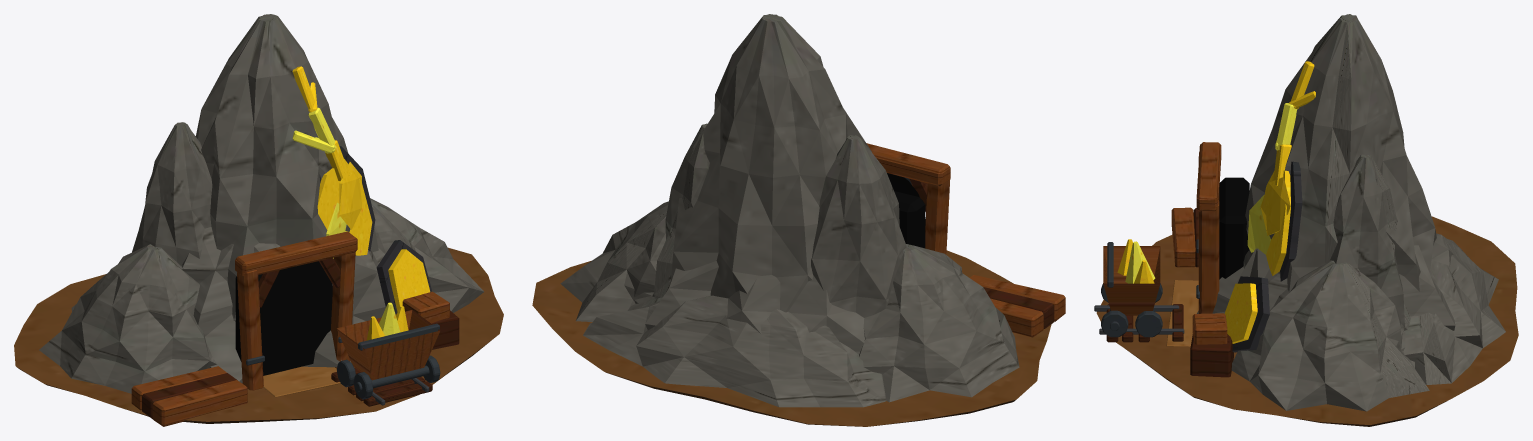
The model's file is hegemony-gold-mine-balanced-42776e6a0a1196c.glb.
3 renders of one model, left to right at view 1: azimuth 30°, elevation 25°; view 2: azimuth 150°, elevation 25°; view 3: azimuth 270°, elevation 25°, orthographic. The views are drawn at different scales.
Parts seen in each view (by area): view 1: WK_GoldMine_LOD1_Balanced.001; view 2: WK_GoldMine_LOD1_Balanced.001; view 3: WK_GoldMine_LOD1_Balanced.001.
Part boxes in pixels (x1,y1,x2,y2): WK_GoldMine_LOD1_Balanced.001: [14, 14, 503, 426]; WK_GoldMine_LOD1_Balanced.001: [532, 14, 1065, 426]; WK_GoldMine_LOD1_Balanced.001: [1094, 14, 1518, 426].
Size of the model in its own units: 12.64 by 7.93 by 10.03.
Materials: 1 (1 with a texture image).
